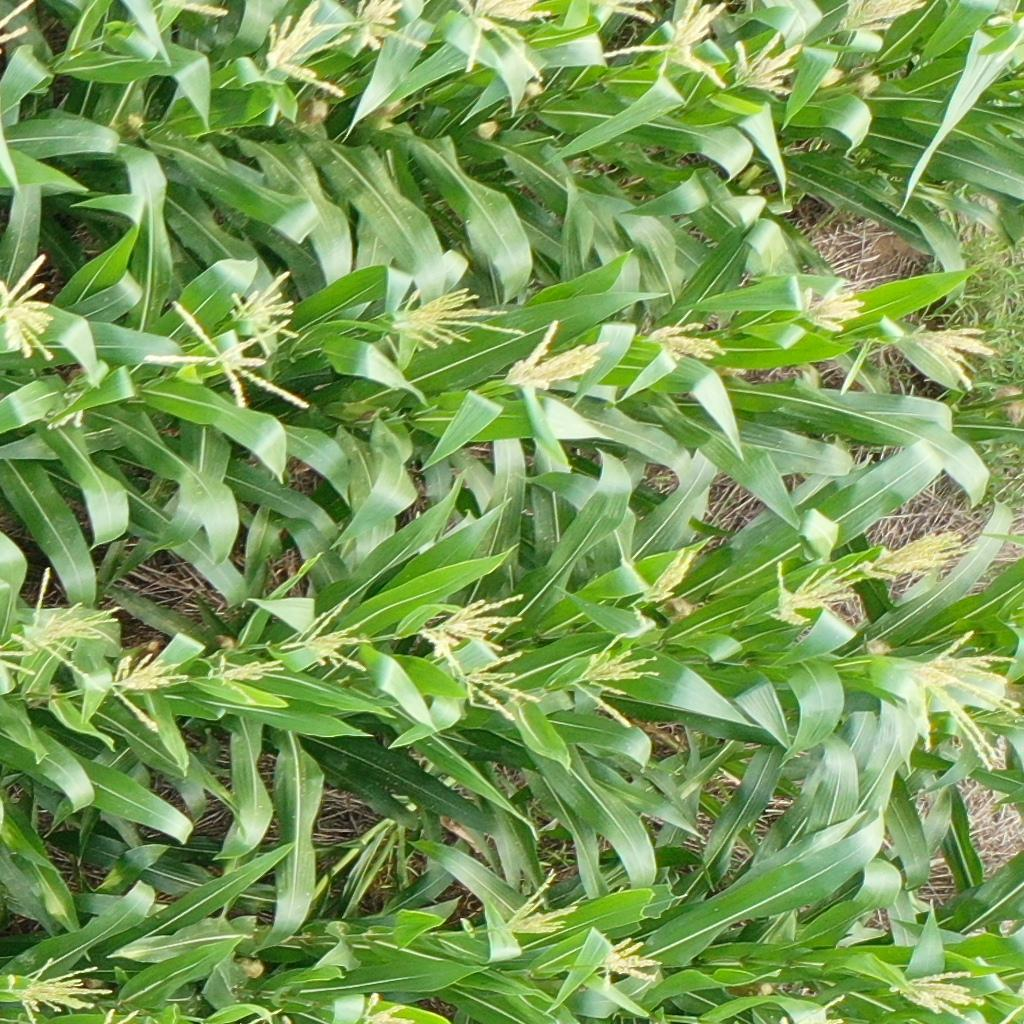Tassel: (145, 299, 309, 417), (902, 622, 1024, 774), (16, 566, 122, 693), (601, 1, 731, 91), (569, 628, 663, 732), (256, 1, 351, 102), (385, 289, 527, 350), (504, 321, 619, 395), (418, 592, 527, 669), (457, 1, 553, 86), (1, 954, 115, 1024), (760, 559, 871, 626), (105, 649, 188, 731), (864, 528, 982, 585), (449, 648, 541, 721), (900, 322, 995, 392), (283, 598, 371, 673), (226, 269, 300, 357), (1, 253, 59, 363), (486, 866, 579, 934), (626, 547, 699, 630), (319, 1, 428, 56), (728, 27, 806, 96), (886, 970, 984, 1019), (206, 648, 285, 708), (786, 278, 866, 334), (592, 934, 661, 993), (644, 317, 729, 363), (832, 1, 929, 35), (777, 991, 847, 1024), (45, 386, 94, 431), (1, 625, 42, 678), (585, 1, 661, 26), (355, 993, 415, 1024), (1, 1, 36, 53), (982, 1, 1024, 29), (154, 1, 232, 16), (102, 1005, 138, 1024)
